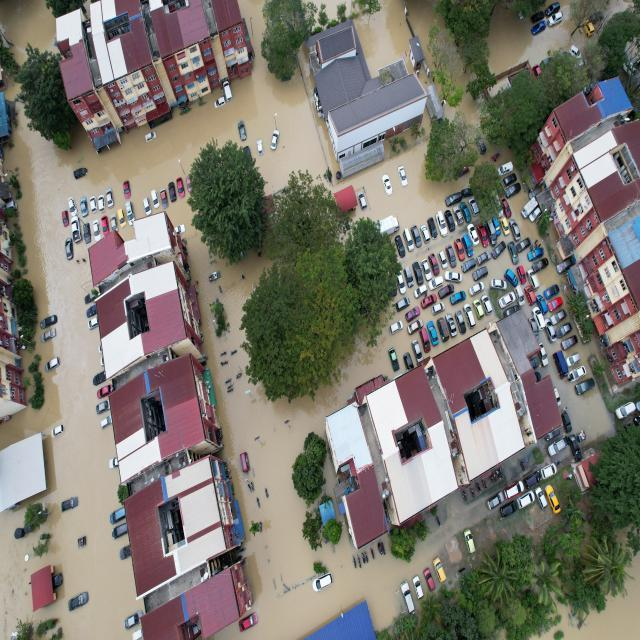flood: (0, 64, 327, 640), (167, 198, 523, 640), (348, 144, 457, 228), (490, 0, 577, 74), (572, 556, 640, 640), (554, 376, 617, 444), (355, 0, 411, 75), (0, 0, 54, 62)
house: (356, 316, 554, 524), (536, 74, 640, 373), (50, 0, 256, 139), (120, 453, 245, 630), (300, 15, 432, 176), (106, 340, 222, 514), (322, 380, 404, 552), (84, 272, 204, 356), (88, 222, 182, 278), (1, 426, 50, 520), (288, 598, 384, 637)
